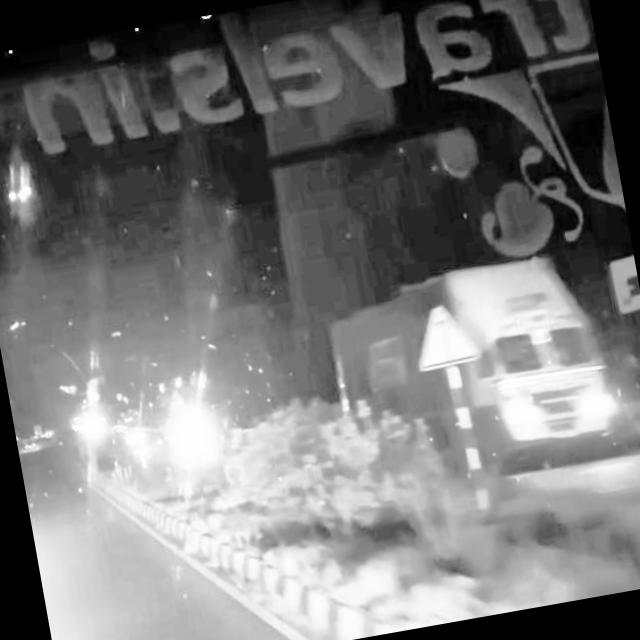Truck: (320, 244, 630, 501)
